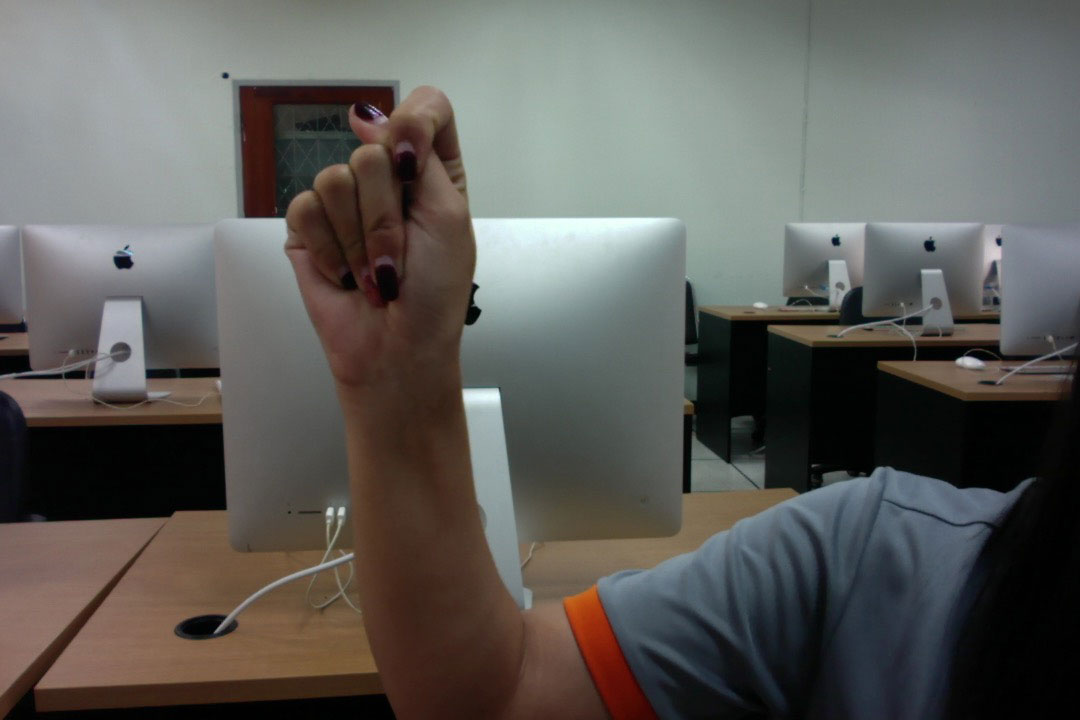tor: (278, 75, 480, 402)
